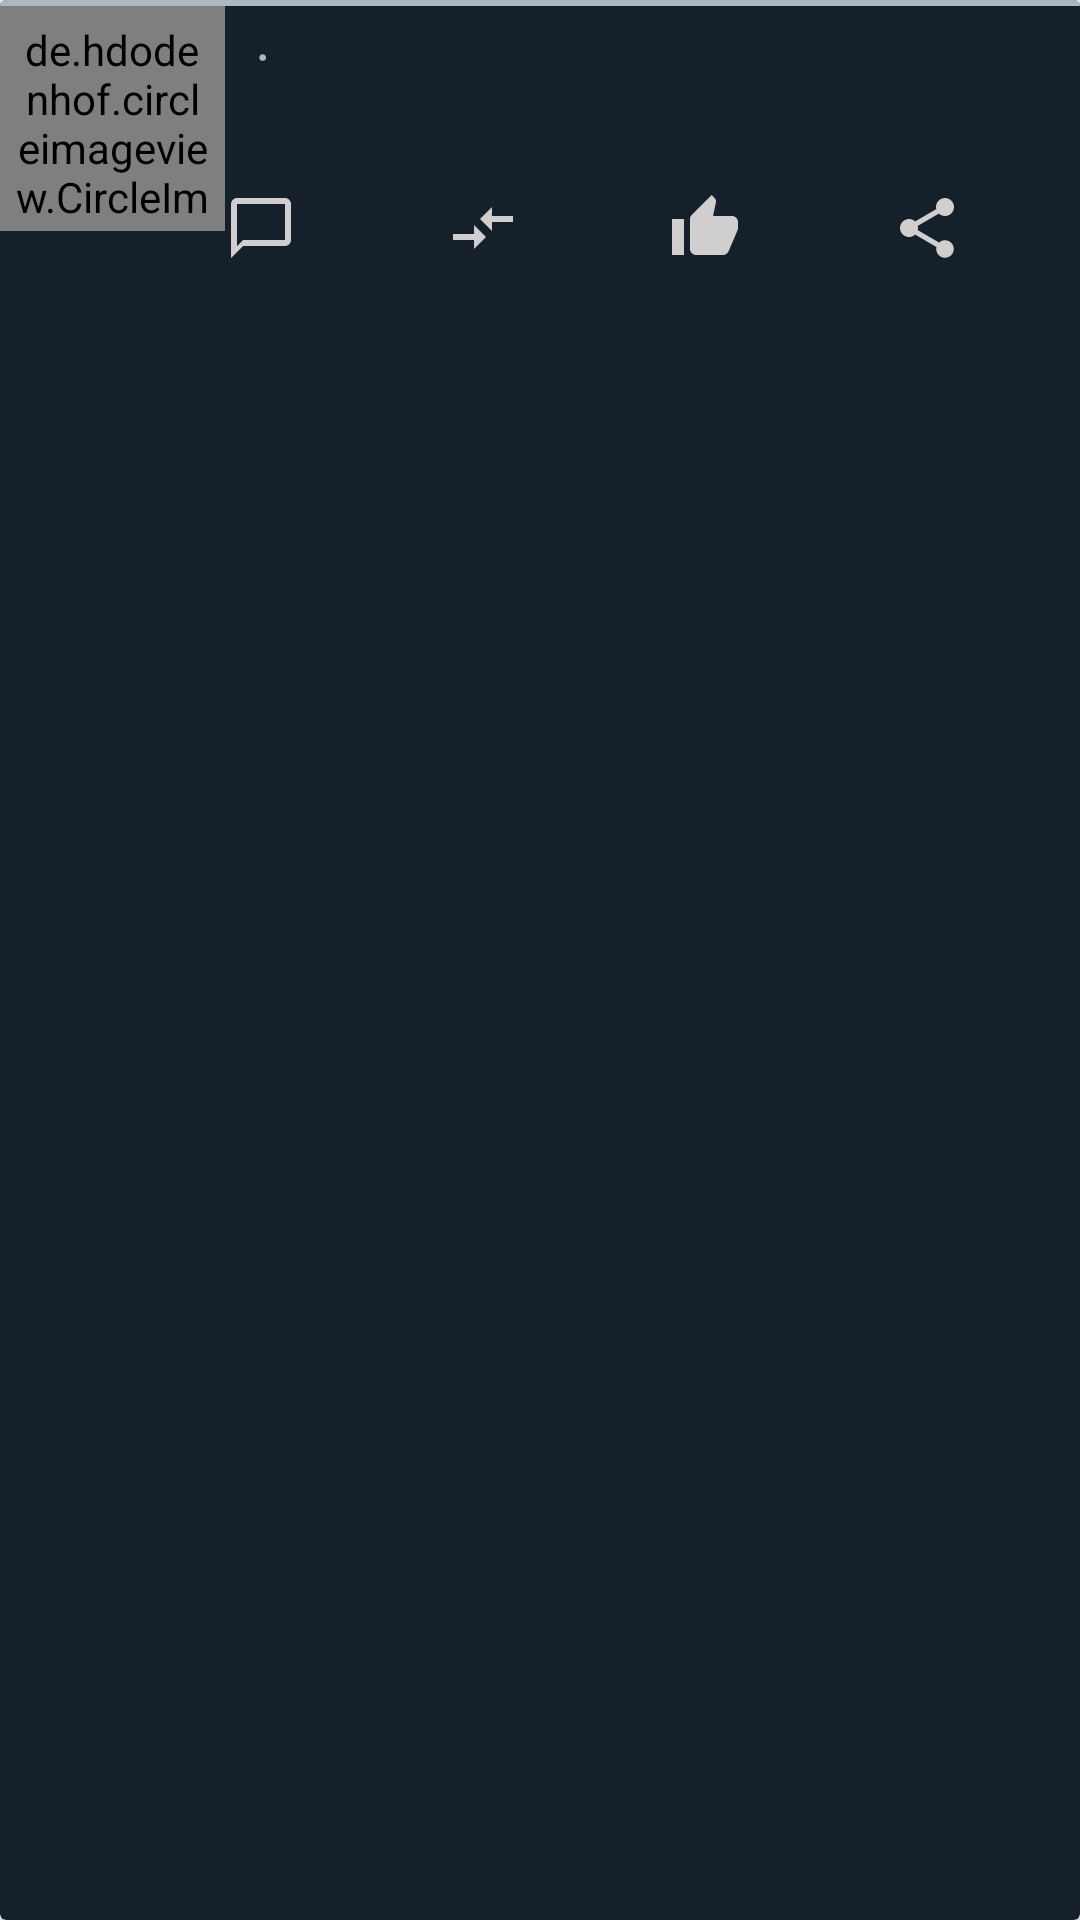

Icons on this 1080w x 1920h Android screen, each with its box as (x1, y1, x2, y2):
chat bubble: (231, 198, 291, 258)
compare arrows: (453, 207, 513, 249)
share: (900, 198, 954, 258)
thumb up: (672, 195, 738, 255)
